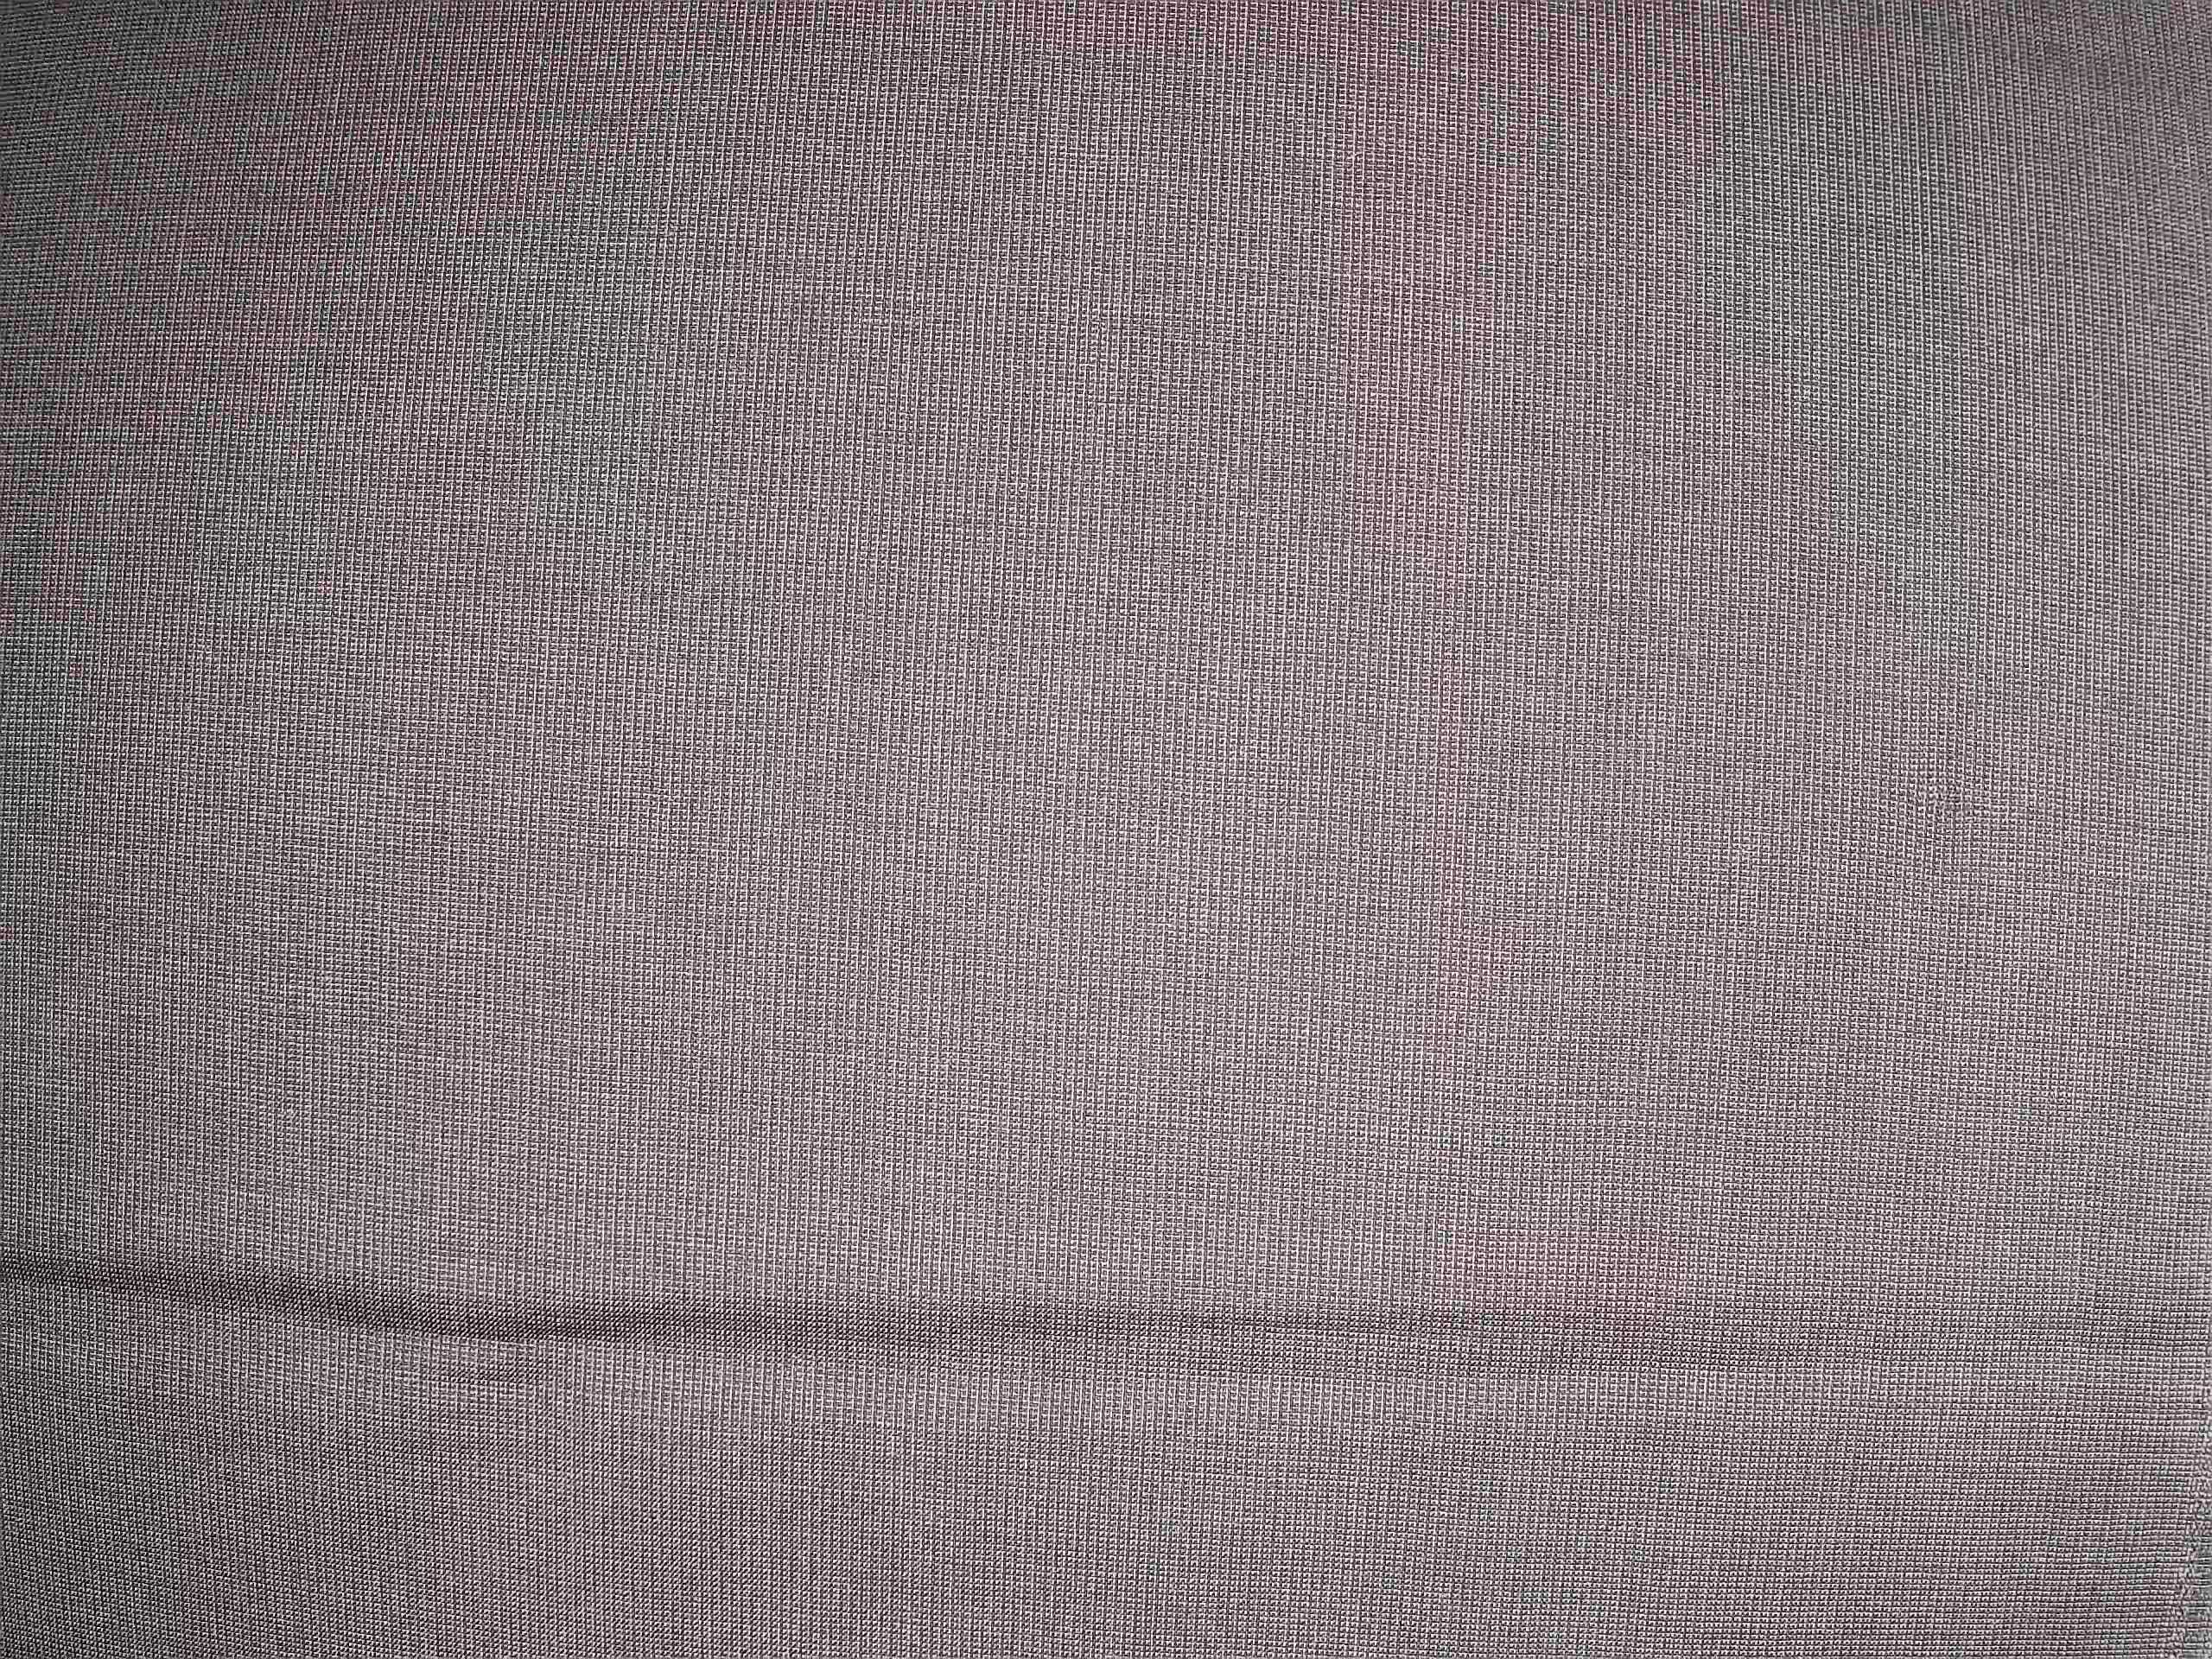thin-spinning: (1879, 725, 2026, 873)
